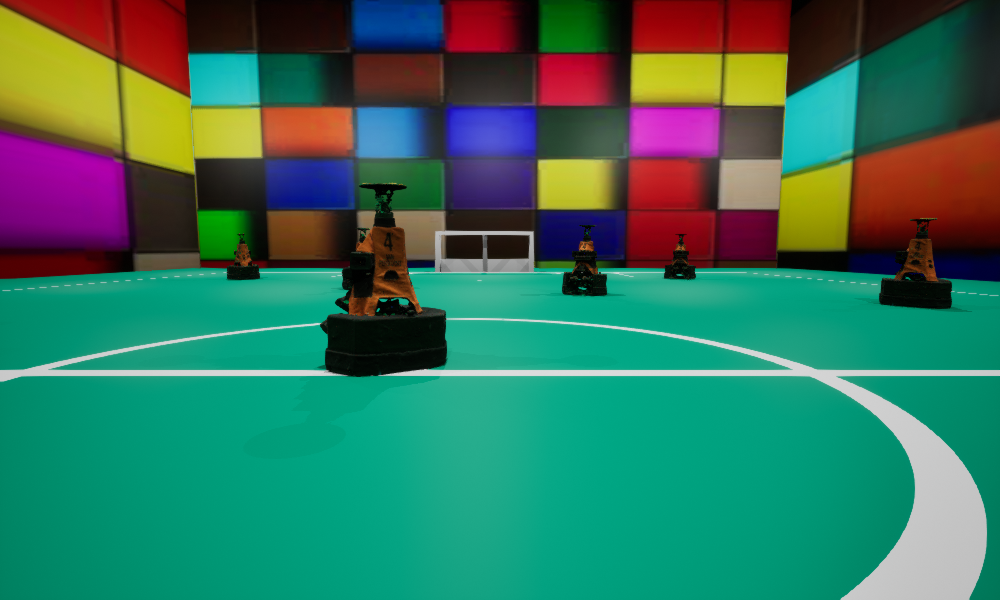0 orange robot TechUnited: (320, 183, 446, 375), (879, 218, 951, 308), (562, 225, 606, 294), (342, 228, 371, 289), (227, 233, 259, 279), (664, 234, 695, 278)
